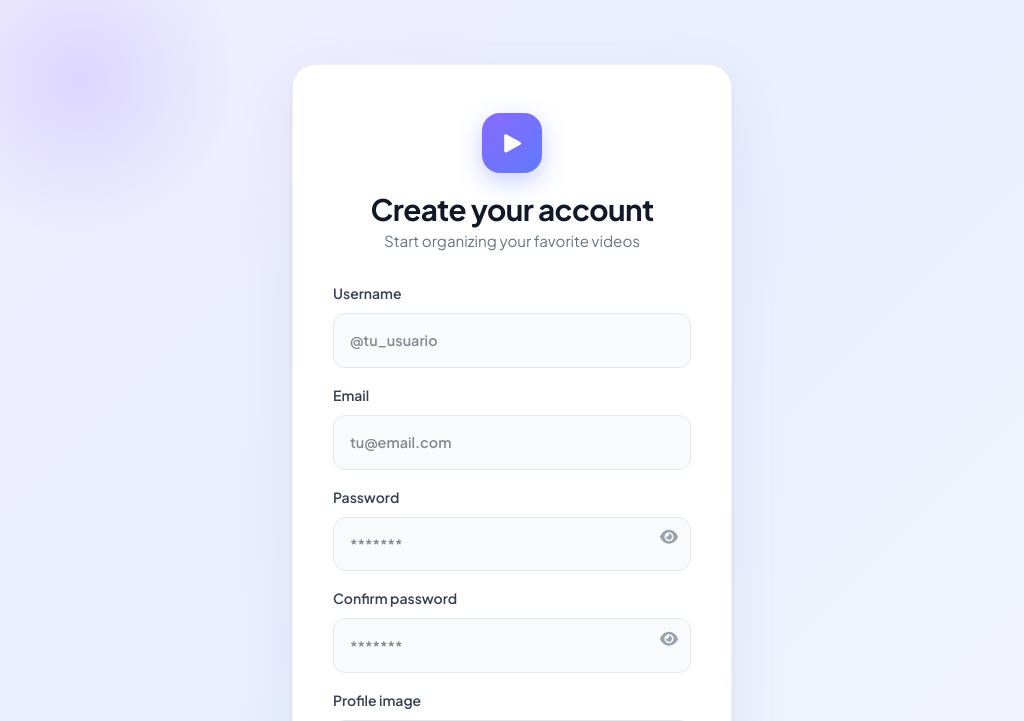
Scenario: Register component › Password validation › Check that password length is correct
Type "123" into the password field labelled "Password".
click(512, 544); type("123")  # box x1=333 y1=517 x2=691 y2=571
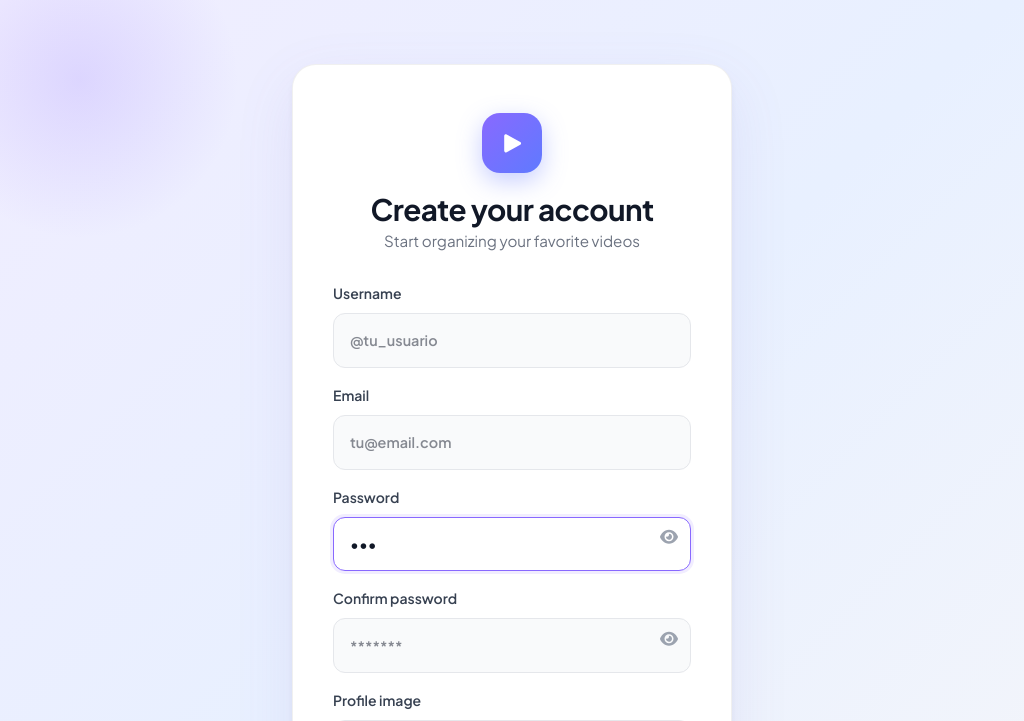
Leave the password field labelled "Password", box x1=333 y1=517 x2=691 y2=571
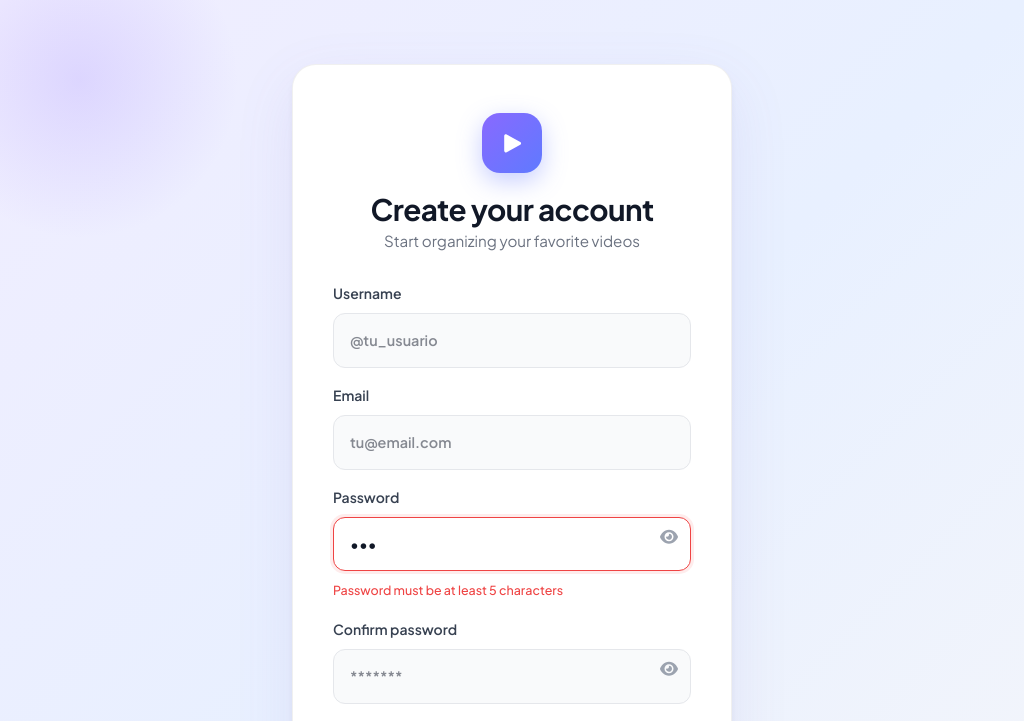
Result: the text "Password must be at least 5 characters" is shown at x1=333 y1=582 x2=563 y2=598
